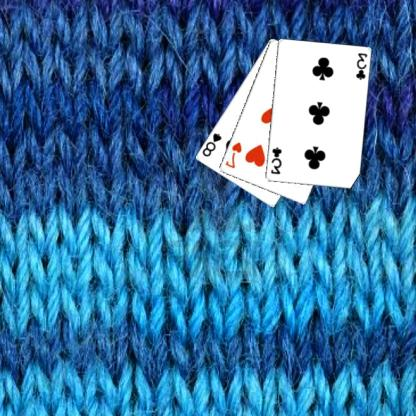3C: (355, 50, 370, 82), (270, 145, 284, 176)
7H: (224, 139, 245, 170)
8S: (201, 130, 224, 158)
